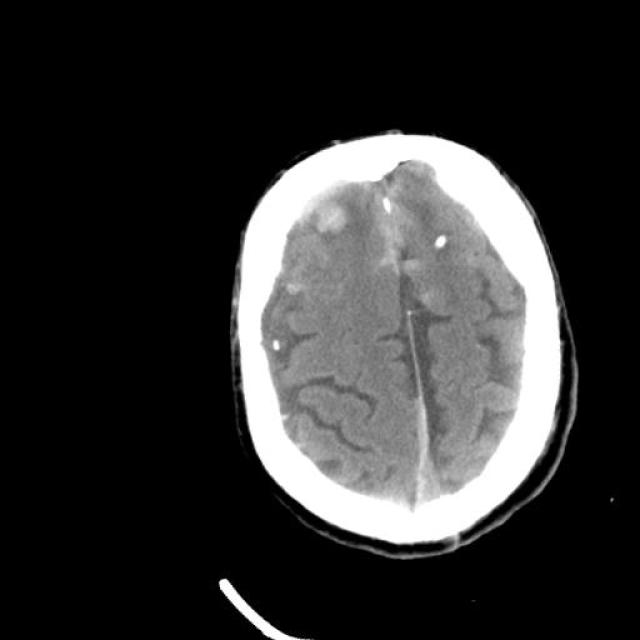Intraparenchymal: (295, 185, 367, 266)
Subdural: (344, 362, 470, 532)
